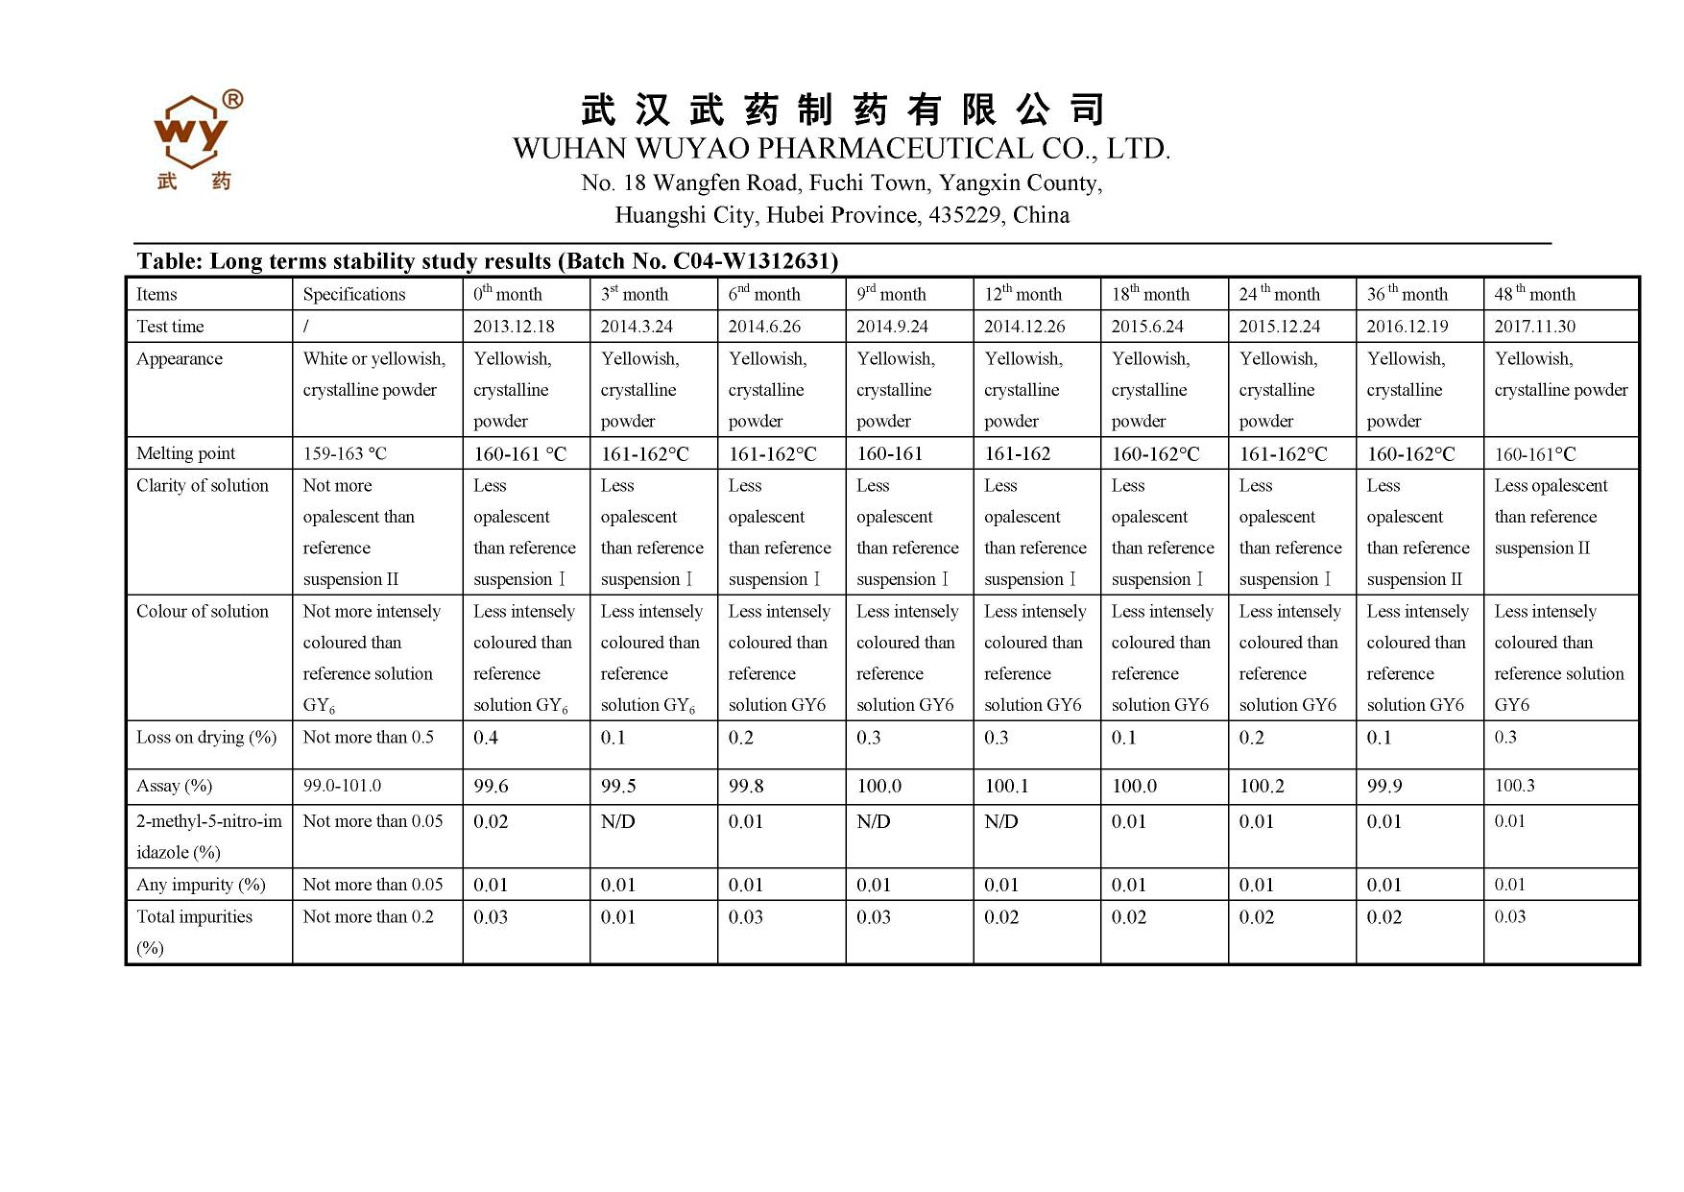full_lined: (122, 273, 1641, 968)
